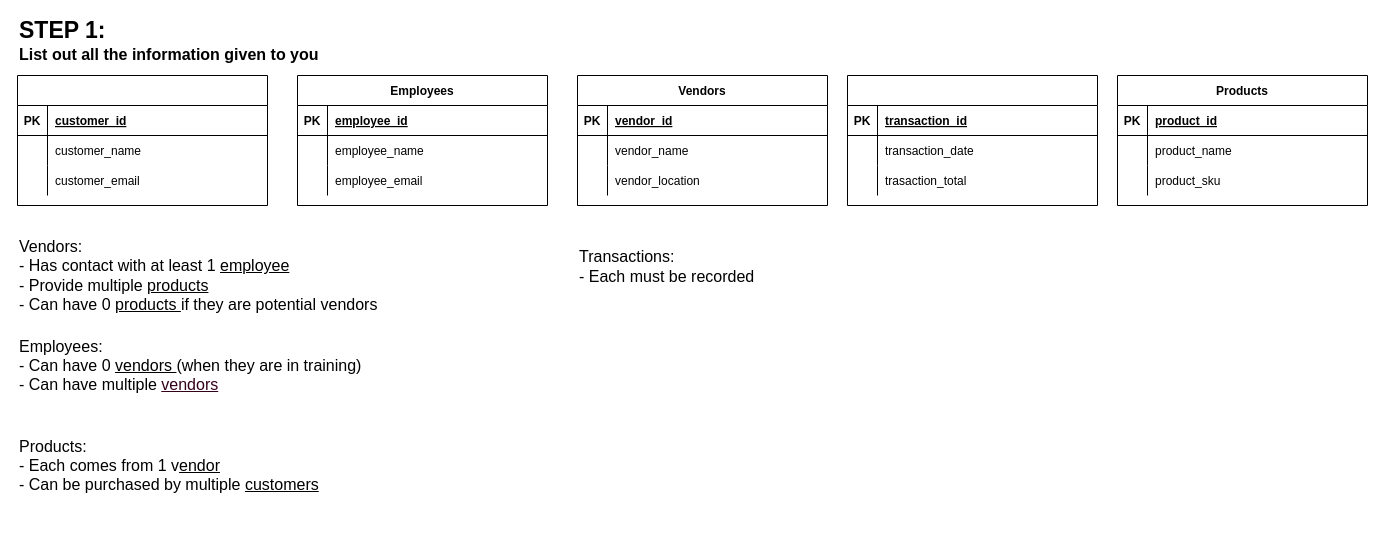
This 1385x533 diagram has some shape labels left out. The shapes that lost their labels are listed below. From the top down, each one's box as (x1, y1, x2, y2) in pixels, then its label:
(16, 74, 268, 206): Customers
(846, 74, 1098, 206): Transactions
